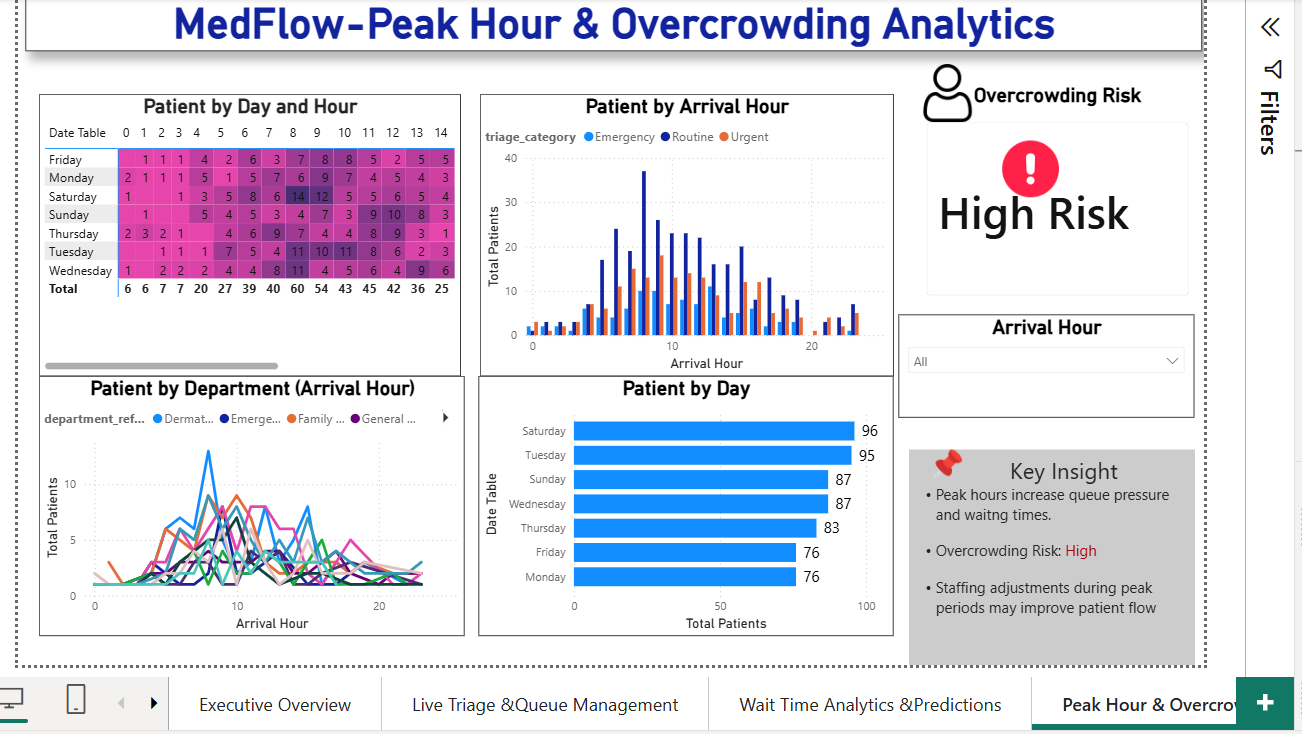

Layout of this report page (visuals, bound fields, positions):
{"tool":"powerbi","page":{"name":"Peak Hour & Overcrowding Analytics","canvas":[1280,720],"ordinal":3},"visuals":[{"type":"pivotTable","title":"Patient by Day and Hour","fields":{"Columns":["Patients.Arrival Hour"],"Values":["Patients.Total Patients"],"Rows":["DateTable.Date Table"]},"box":[23.4,103.9,455.1,304.4],"z":0},{"type":"clusteredColumnChart","title":"Patient by Arrival Hour","fields":{"Category":["Patients.Arrival Hour"],"Y":["Patients.Total Patients"],"Series":["Patients.triage_category"]},"box":[499,103.9,446.3,304.4],"z":1000},{"type":"lineChart","title":"Patient by Department (Arrival Hour)","fields":{"Category":["Patients.Arrival Hour"],"Y":["Patients.Total Patients"],"Series":["Patients.department_referred"]},"box":[23.4,408.3,459.5,281],"z":2000},{"type":"clusteredBarChart","title":"Patient by Day","fields":{"Y":["Patients.Total Patients"],"Category":["DateTable.Date Table"]},"box":[497.6,408.3,447.8,281],"z":3000},{"type":"slicer","title":"Arrival Hour","fields":{"Values":["Patients.Arrival Hour"]},"box":[951.2,342.4,319,111.2],"z":4000},{"type":"textbox","title":"MedFlow-Peak Hour & Overcrowding Analytics","box":[8.8,0,1270.2,57.1],"z":5000},{"type":"cardVisual","title":"Overcrowding Risk","fields":{"Data":["Patients.Overcrowding Risk Flag"]},"box":[962.9,92.2,317.6,245.9],"z":10000},{"type":"image","box":[945.4,71.7,115.6,62.9],"z":11000},{"type":"image","box":[1033.2,153.7,120,61.5],"z":12000},{"type":"textbox","box":[961.5,487.3,308.8,232.7],"z":13000},{"type":"image","box":[973.2,487.3,60,32.2],"z":14000}]}

Visuals, with their boxes on the page's 1280x720 design canvas (x1, y1, x2, y2). These are canvas units, not pixel positions in the 1302x734 screenshot, which may show the page scaled, cropped or inside an application window:
"Patient by Day and Hour" pivotTable: 23/104/478/408
"Patient by Arrival Hour" clusteredColumnChart: 499/104/945/408
"Patient by Department (Arrival Hour)" lineChart: 23/408/483/689
"Patient by Day" clusteredBarChart: 498/408/945/689
"Arrival Hour" slicer: 951/342/1270/454
"MedFlow-Peak Hour & Overcrowding Analytics" textbox: 9/0/1279/57
"Overcrowding Risk" cardVisual: 963/92/1280/338
image: 945/72/1061/135
image: 1033/154/1153/215
textbox: 962/487/1270/720
image: 973/487/1033/520
